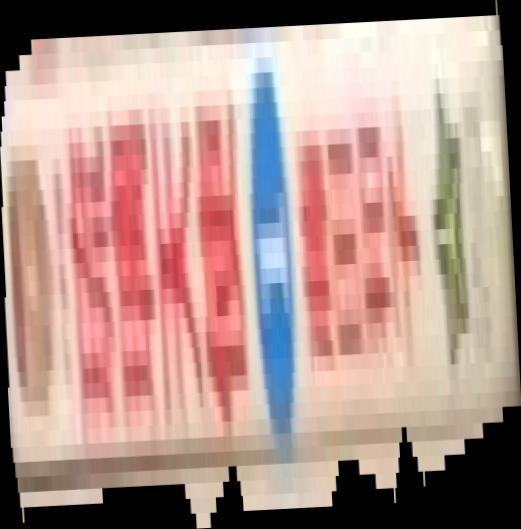flat: (1, 1, 521, 529)
